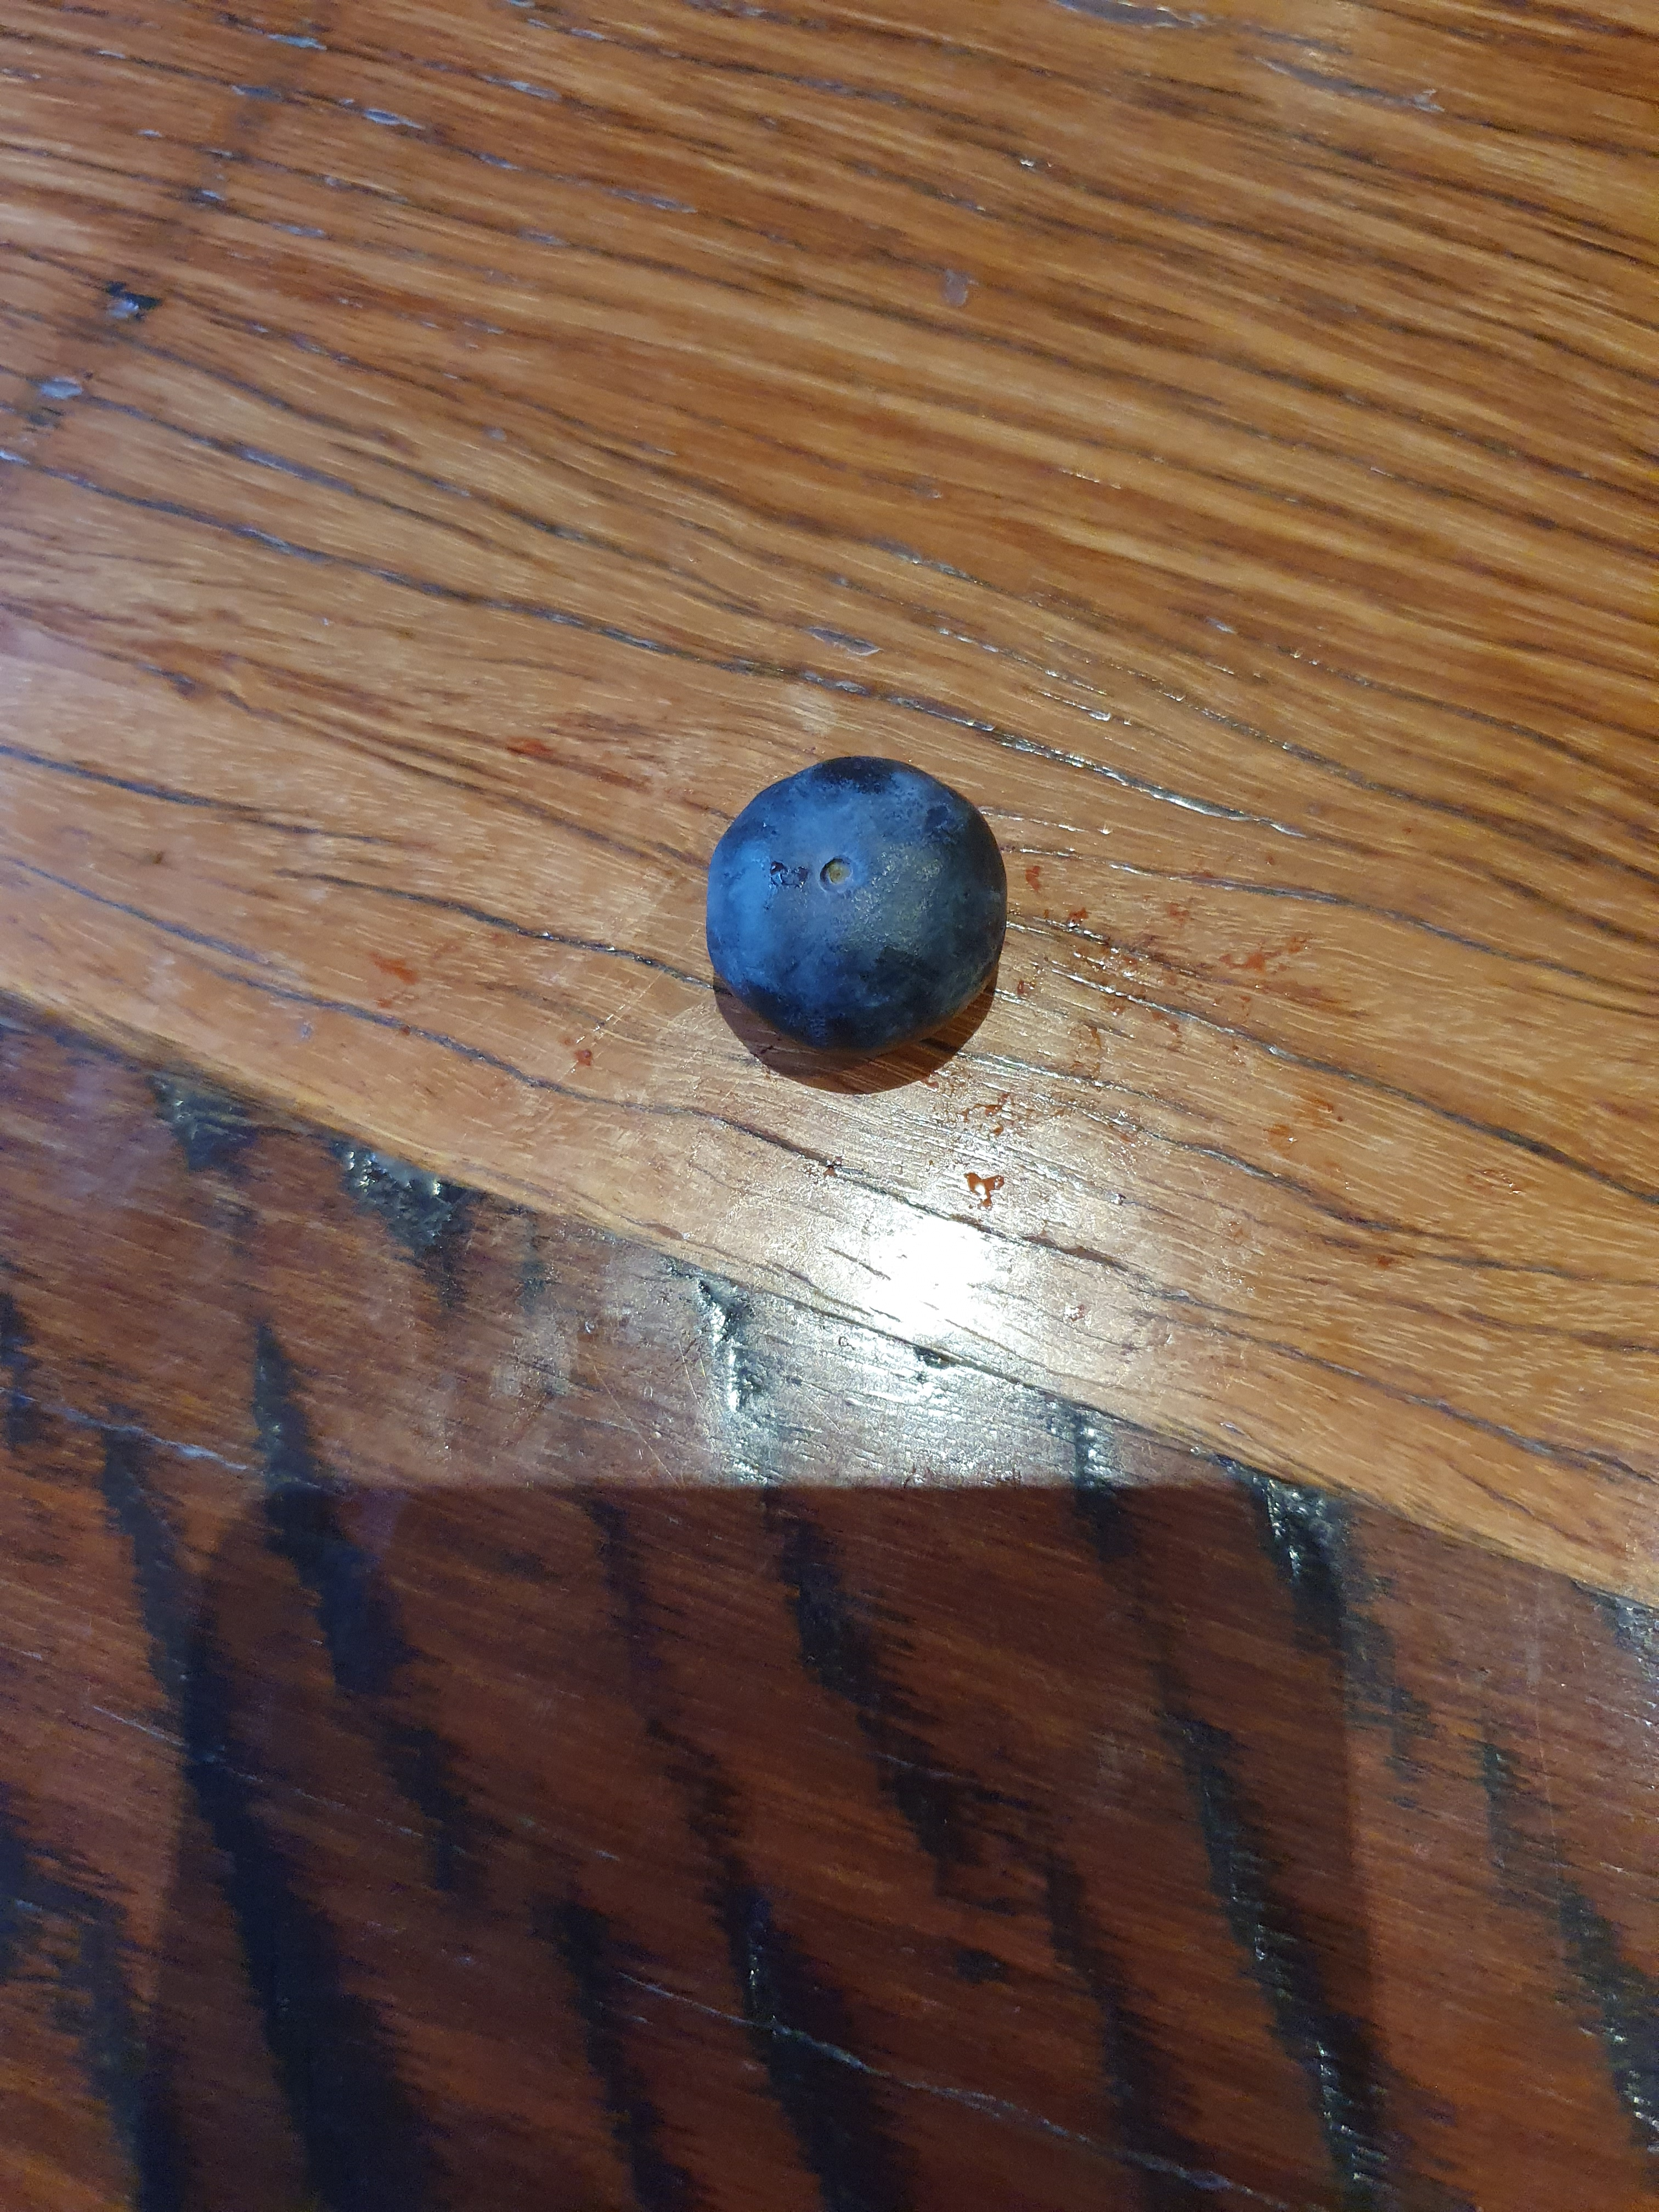blueberry: (650, 709, 1028, 1089)
